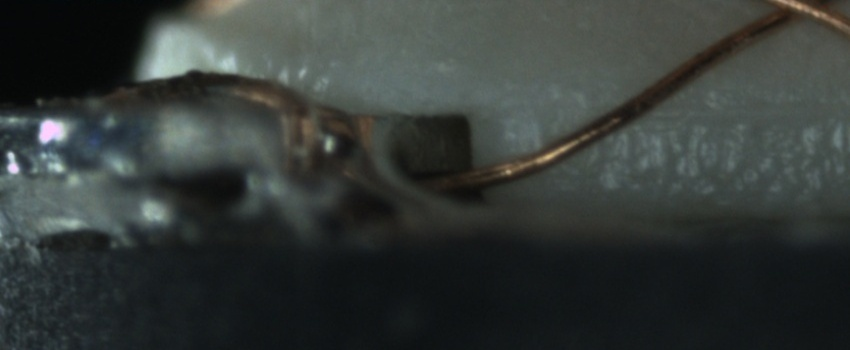CL: (758, 0, 839, 29)
DL: (644, 80, 849, 136)
